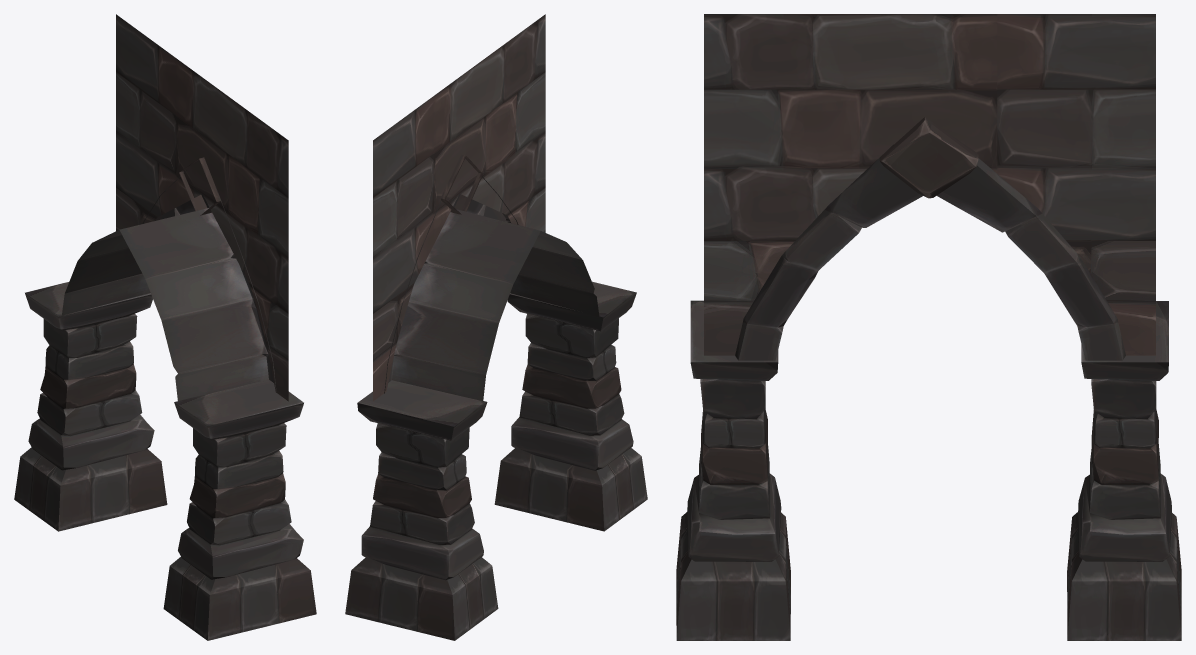
Rendered from A_CA_GEN_DoorExitFrame_01.fbx.
3 views of the same model, side by side, from view 1: azimuth 30°, elevation 25°; view 2: azimuth 150°, elevation 25°; view 3: azimuth 270°, elevation 25° (orthographic). The views are drawn at different scales.
Parts seen in each view (by area): view 1: A_CA_GEN_DoorExitFrame_01; view 2: A_CA_GEN_DoorExitFrame_01; view 3: A_CA_GEN_DoorExitFrame_01.
Boxes of the visible parts, x1=… form: A_CA_GEN_DoorExitFrame_01: x1=14, y1=14, x2=316, y2=640; A_CA_GEN_DoorExitFrame_01: x1=345, y1=14, x2=647, y2=640; A_CA_GEN_DoorExitFrame_01: x1=676, y1=14, x2=1181, y2=640.
Size of the model in its own units: 342 by 1400 by 1042.
1 material, 1 textured.
